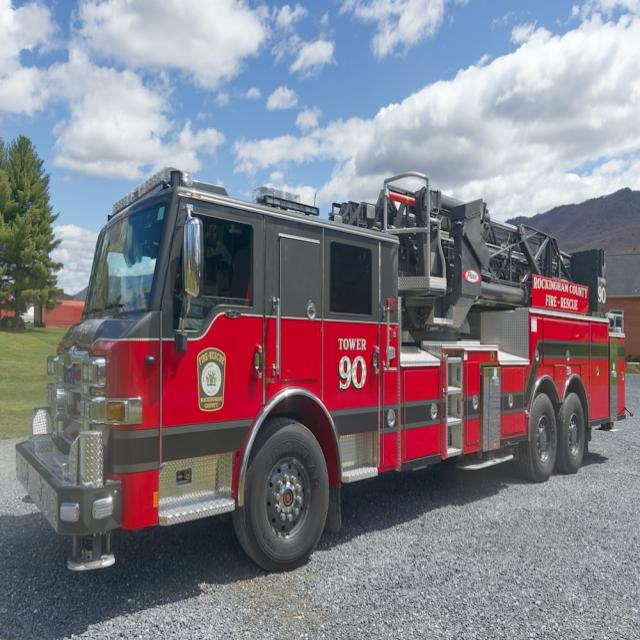emergency: (16, 169, 629, 570)
